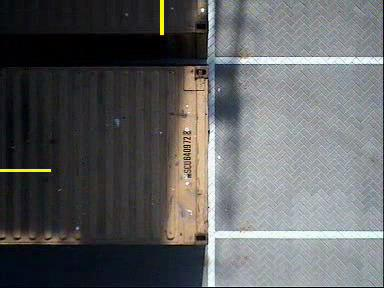groundmarker_2: (205, 201, 260, 276), (206, 27, 260, 103)
